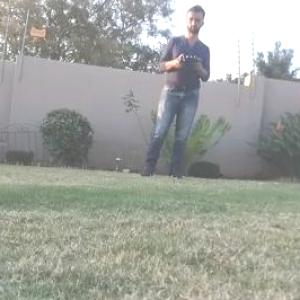follow: (133, 0, 214, 185)
